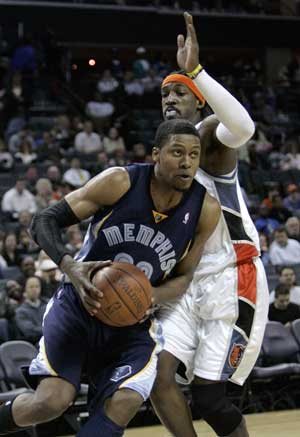basketball: (89, 262, 151, 326)
